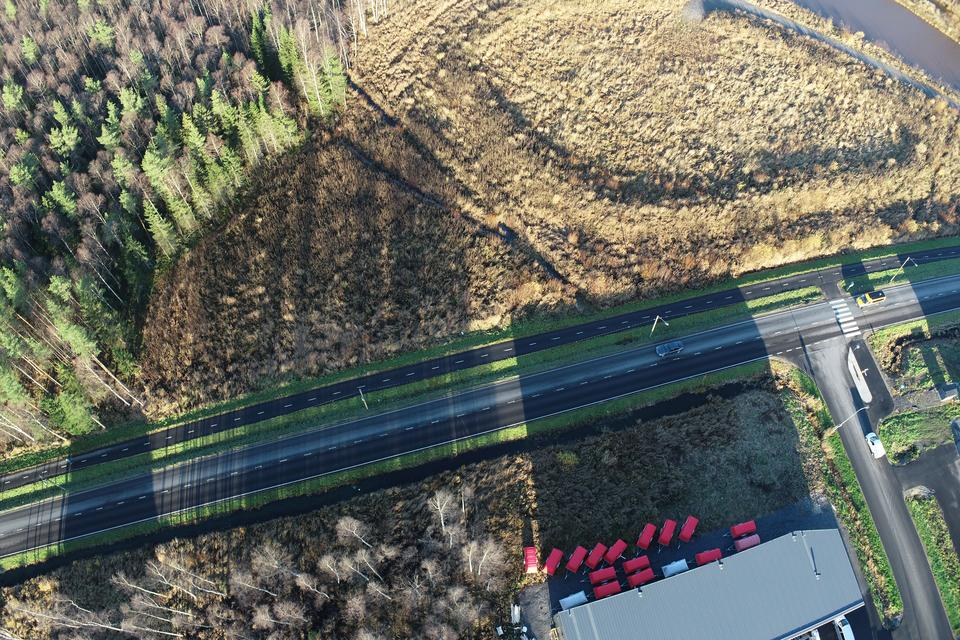intersection: (746, 249, 903, 429)
